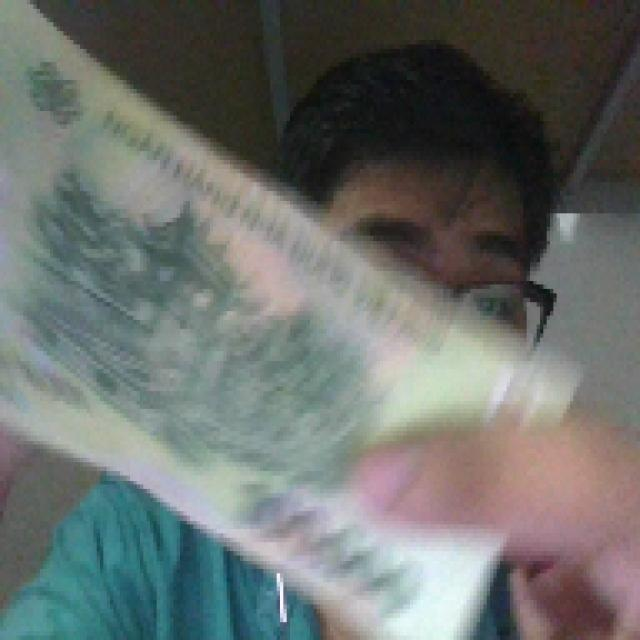100 000 VND: (0, 0, 543, 635)
